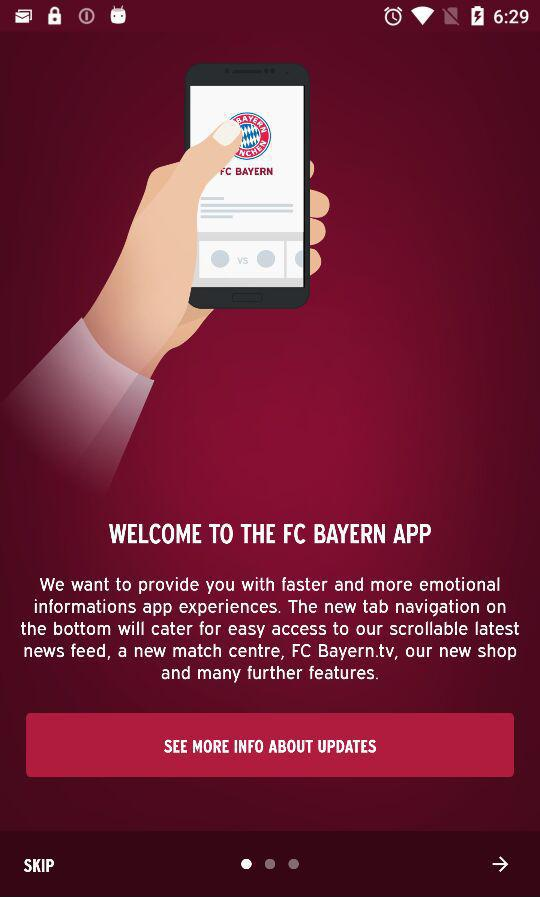Icon: (491, 856, 509, 873)
Image: (0, 56, 539, 505)
PageIndicator: (240, 858, 300, 871)
Text: (20, 576, 520, 684), (109, 523, 432, 546), (24, 858, 56, 873)
TextButton: (26, 712, 515, 779)
UpperTaskBar: (1, 1, 540, 33)
